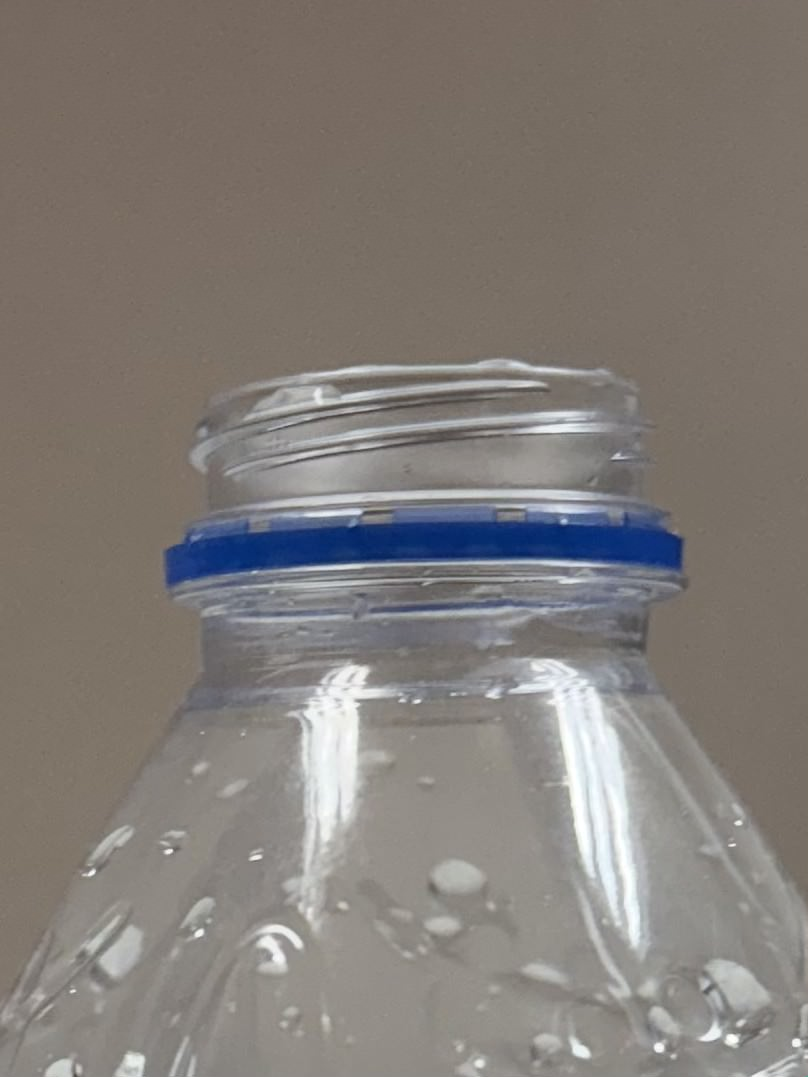no_cap: (159, 354, 691, 620)
